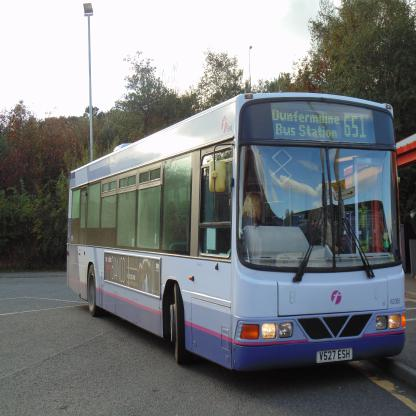Bus: (66, 93, 406, 373)
